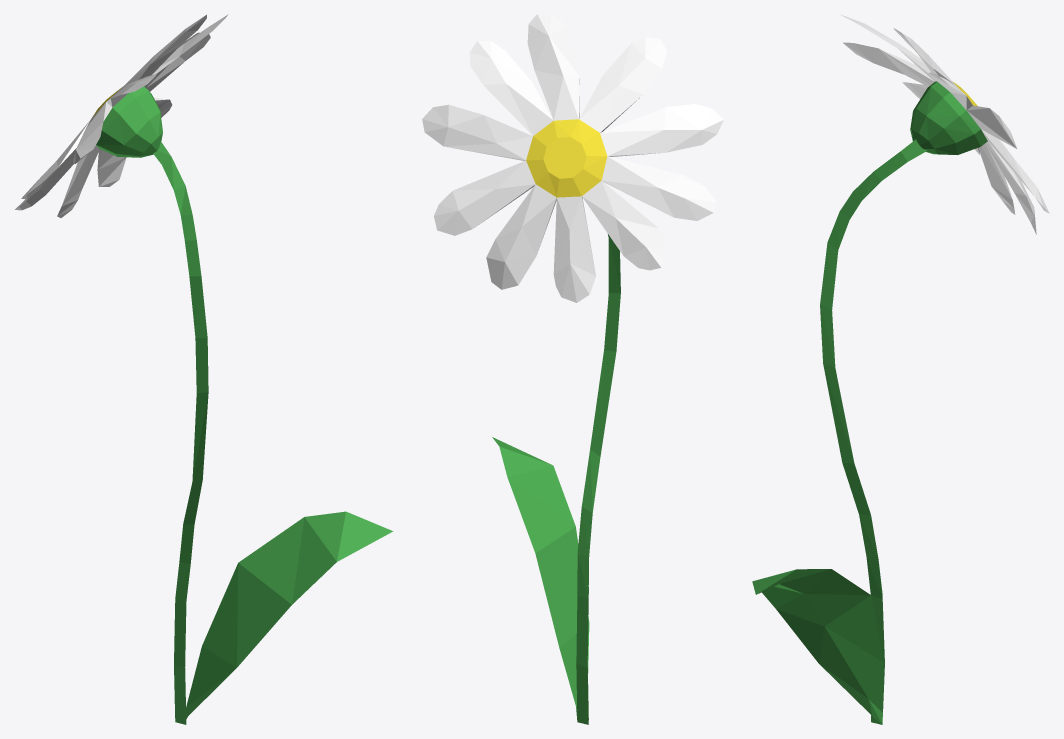
Rendered from Flower.glb.
3 renders of one model, left to right at view 1: azimuth 30°, elevation 25°; view 2: azimuth 150°, elevation 25°; view 3: azimuth 270°, elevation 25°, orthographic. The views are drawn at different scales.
Visible parts, largest first — view 1: group1291483580; view 2: group1291483580; view 3: group1291483580.
Boxes of the visible parts, <box> form: group1291483580: <box>15,14,393,724</box>; group1291483580: <box>422,14,723,724</box>; group1291483580: <box>752,14,1049,724</box>.
Bounding box in the file's own units: 0.5656 × 1.27 × 0.4833.
